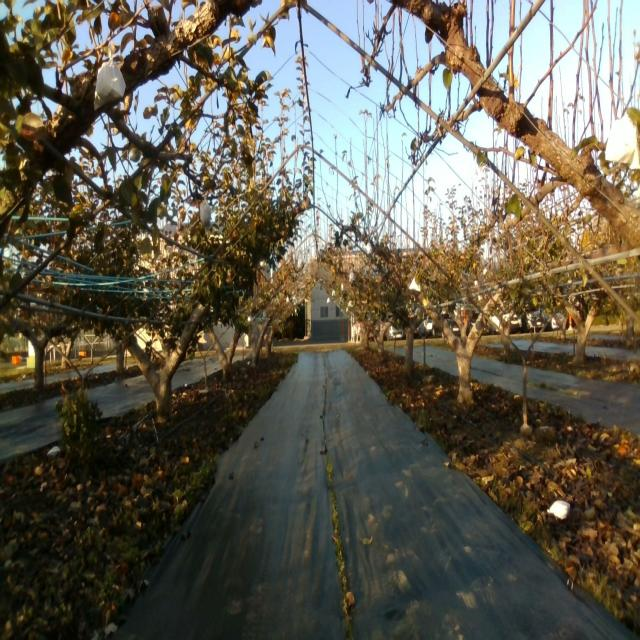pearbags: (92, 46, 126, 111), (604, 112, 640, 171), (199, 195, 211, 233)
